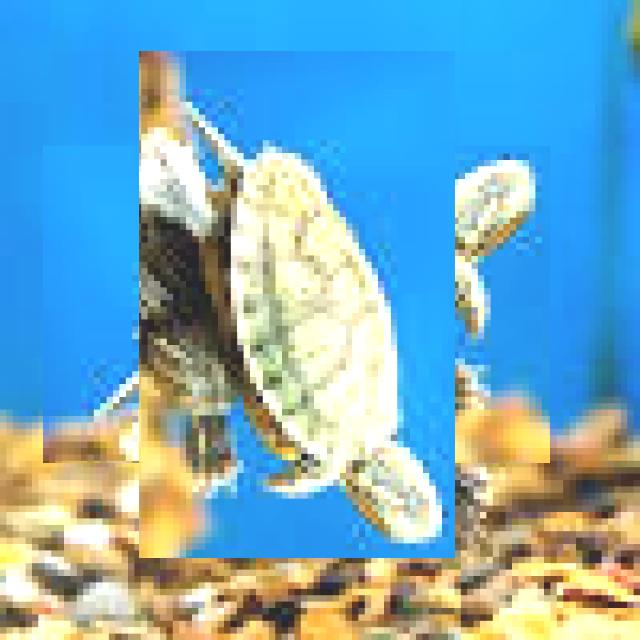Sea turtle: (90, 99, 502, 510)
